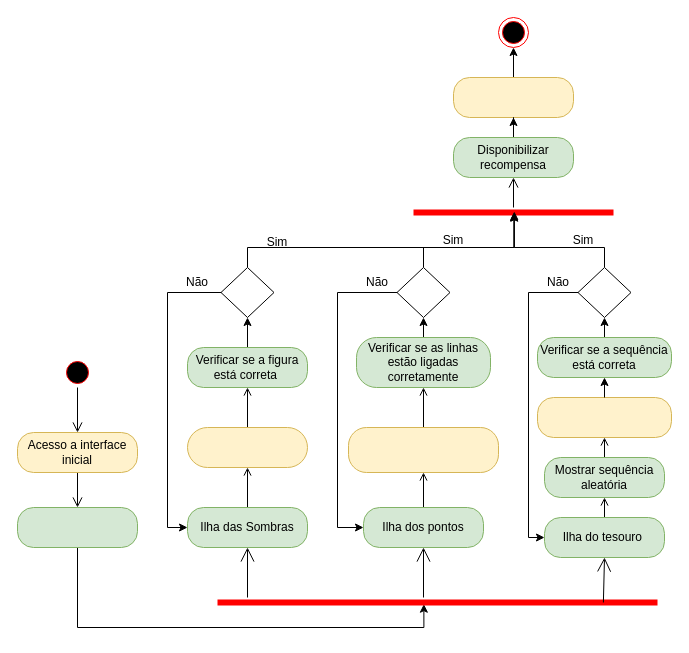
This 689x653 diagram has some shape labels left out. The box of each missing label's shape, as (x1, y1, x2, y2) in pixels:
Inserir sequência: (536, 396, 672, 438)
Levar figura até a posição desejada: (186, 426, 308, 468)
Mapa: (16, 506, 138, 548)
Pressionar e arrastar a linha até a posição desejada: (348, 426, 498, 472)
Próximo nível: (452, 76, 574, 118)
